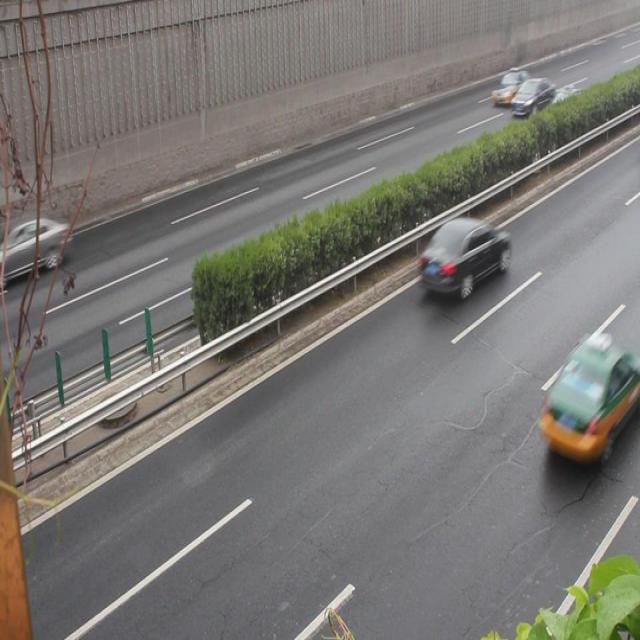car: (539, 332, 640, 461), (419, 215, 509, 296), (0, 218, 72, 279), (543, 87, 586, 128), (511, 76, 553, 112), (493, 70, 532, 104)
